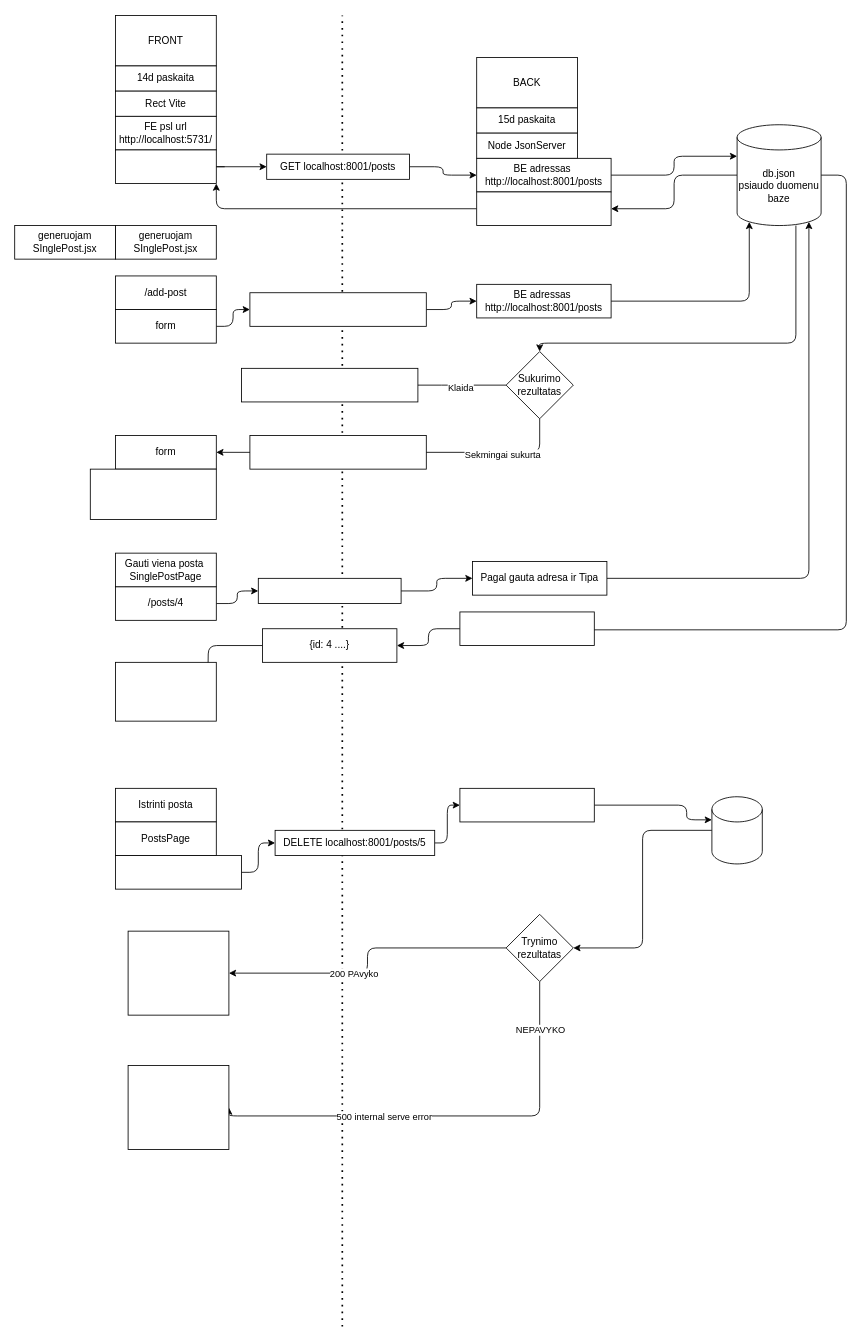
Some shapes in this 868 by 1342 pixel diagram are drawn without their labels. Here are the shapes that lost their labels. From the top down, the centre of each, then its label:
At point 165,166: "/posts".
At point 543,208: "postsArr []".
At point 337,309: "POST localhost:8001/posts {new post values obj}".
At point 329,385: "status 400 false {error: image not given'}".
At point 337,452: "status 201 OK {'post created'}".
At point 152,494: "if dataInJs.postCreated".
At point 329,591: "GET localhost:8001/posts/4".
At point 526,628: "Radom postObj su id 4".
At point 165,691: "SinglePostPage is gautu duomennu nupieasiam singlePost".
At point 526,805: "Pagal gauta adresa ir Tipa be trina irasa".
At point 178,872: "Button trina post id 5".
At point 178,972: "PostsPage atnaujinam sarasa arba parisiunciam naujausia postu versija is DB BE".
At point 178,1107: "PostsPage atvaizduoti klaida kas negerai su itrynimu".
